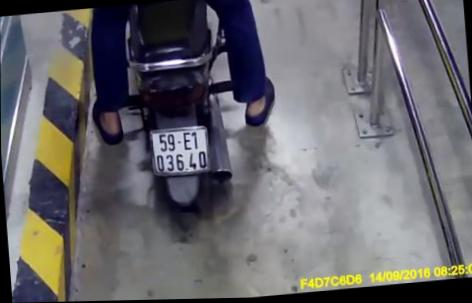LP: (147, 124, 212, 179)
